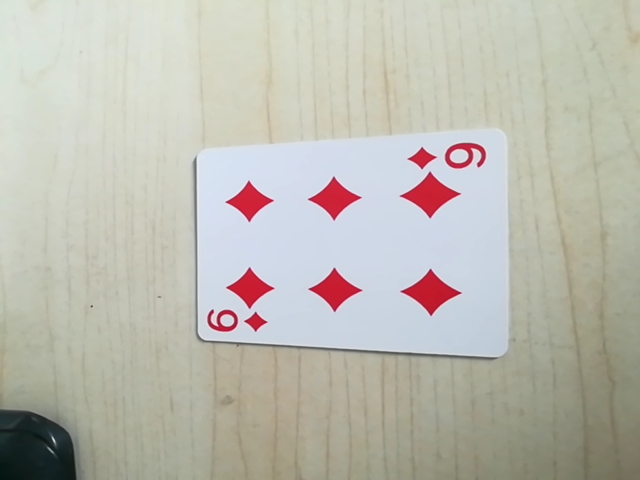fk 6: (405, 136, 493, 174), (202, 306, 269, 340)
